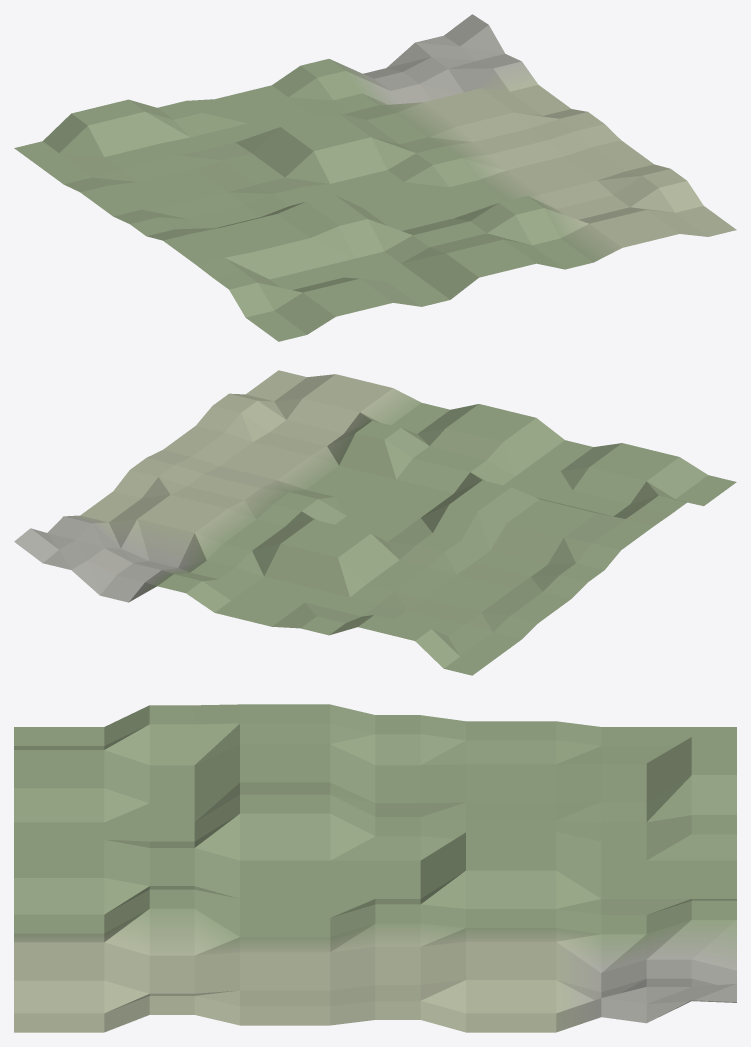
3 renders of one model, top to bottom at view 1: azimuth 30°, elevation 25°; view 2: azimuth 150°, elevation 25°; view 3: azimuth 270°, elevation 25°, orthographic. The views are drawn at different scales.
Size of the model in its own units: 32 by 2.41 by 32.
